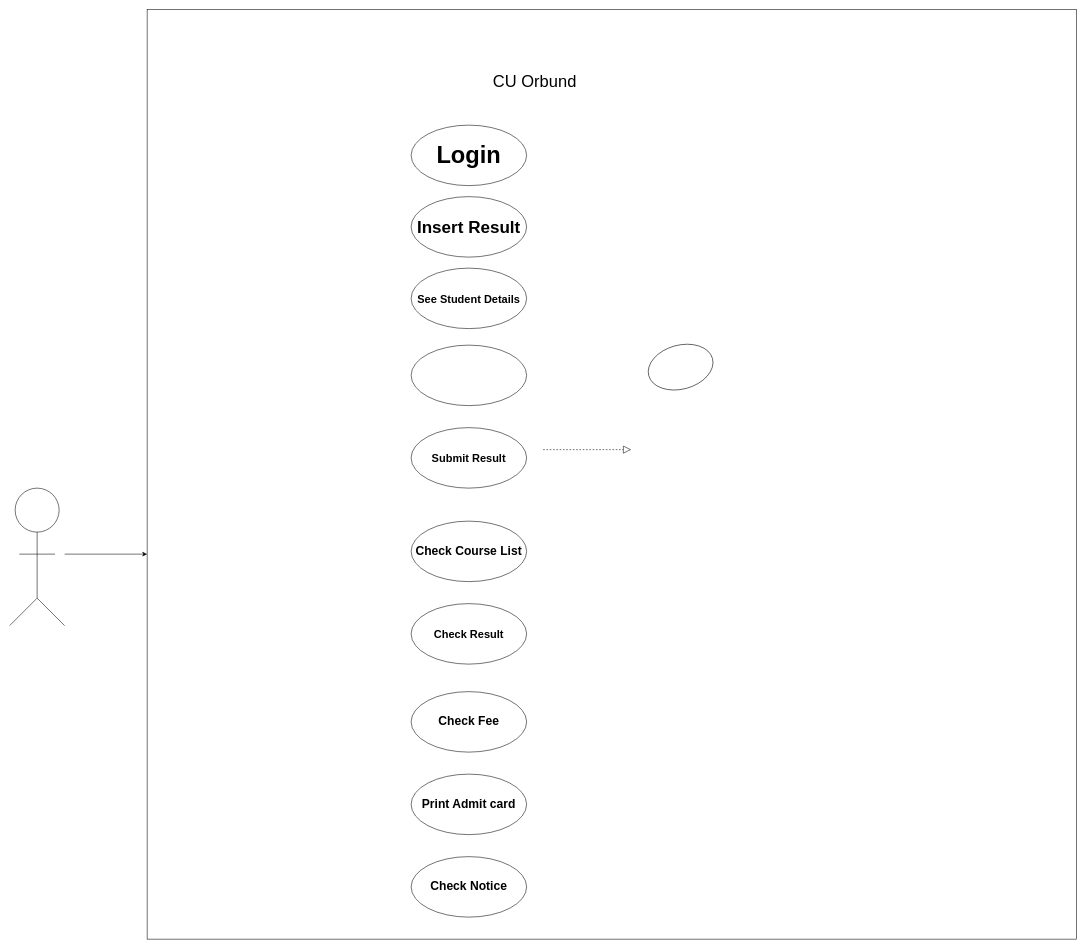
The diagram is 1086 pixels wide and 949 high, and some of its shapes have lost their labels. The centre of each missing label's shape, as x and y in pixels:
"Edit" belongs at [680,367].
"Make Gradeshect" belongs at [469,375].
